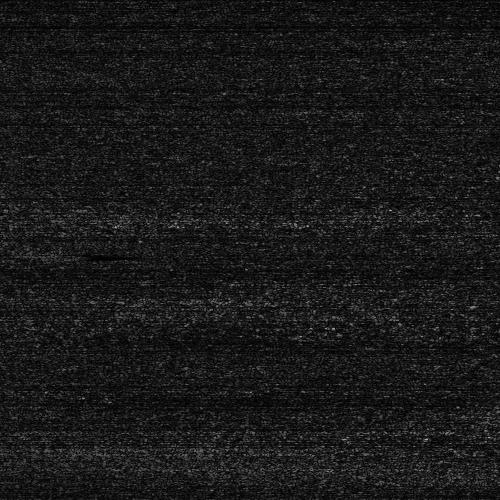rock: (18, 250, 81, 257)
shadow: (50, 250, 137, 257)
